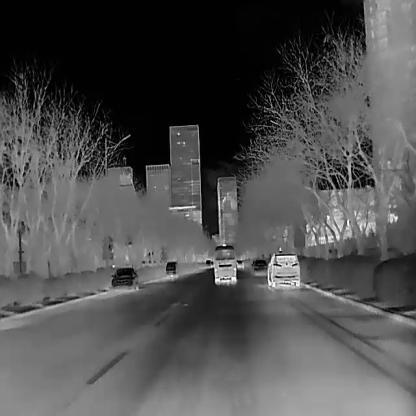car: (265, 253, 299, 288), (212, 243, 236, 282), (110, 267, 136, 290), (250, 258, 267, 274), (164, 260, 178, 277), (236, 259, 244, 268)
